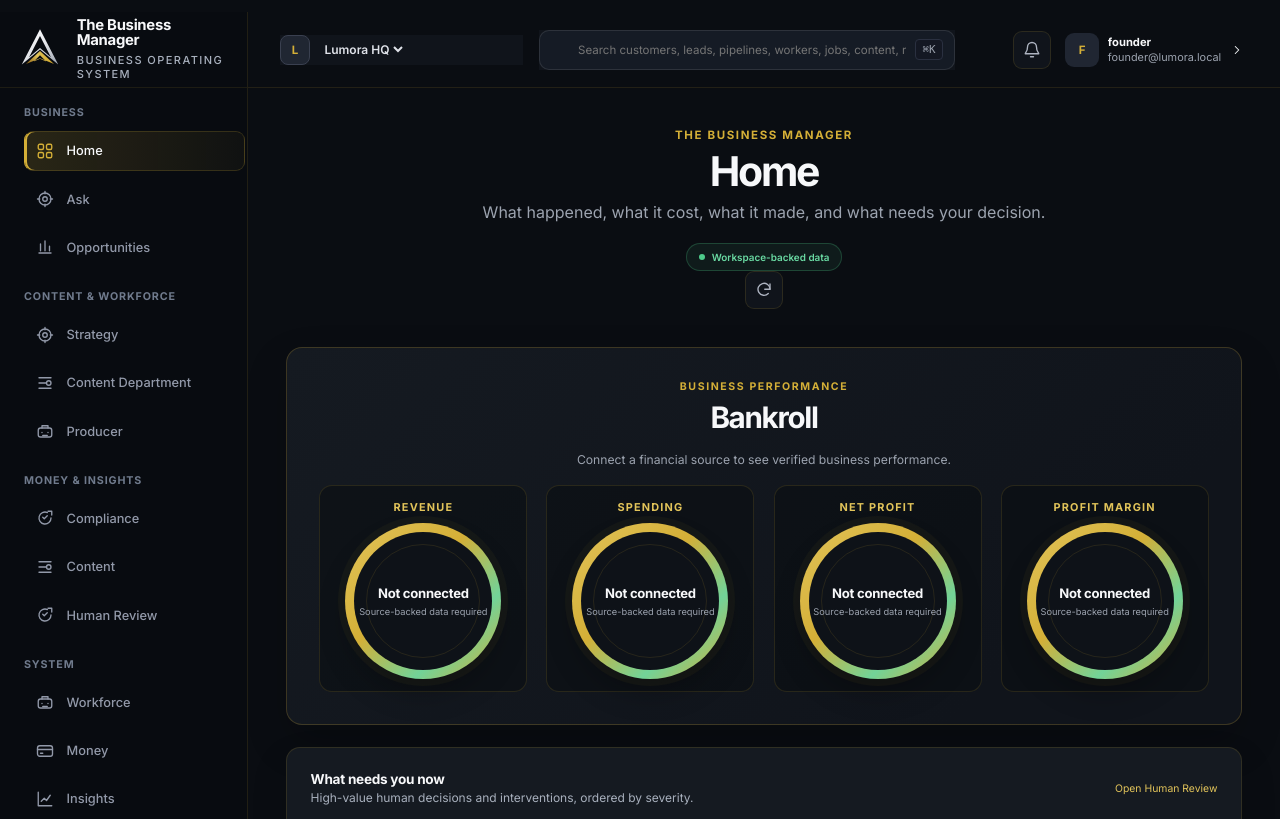
Scenario: dashboard navigation smoke test › surfaces a retryable error state instead of crashing when a route fails
This screenshot has width=1280, height=819.
Expected: the heading "Home" is shown, x1=710 y1=146 x2=818 y2=196
Click the button "Opportunities" at (135,248), box x1=24 y1=228 x2=245 y2=268
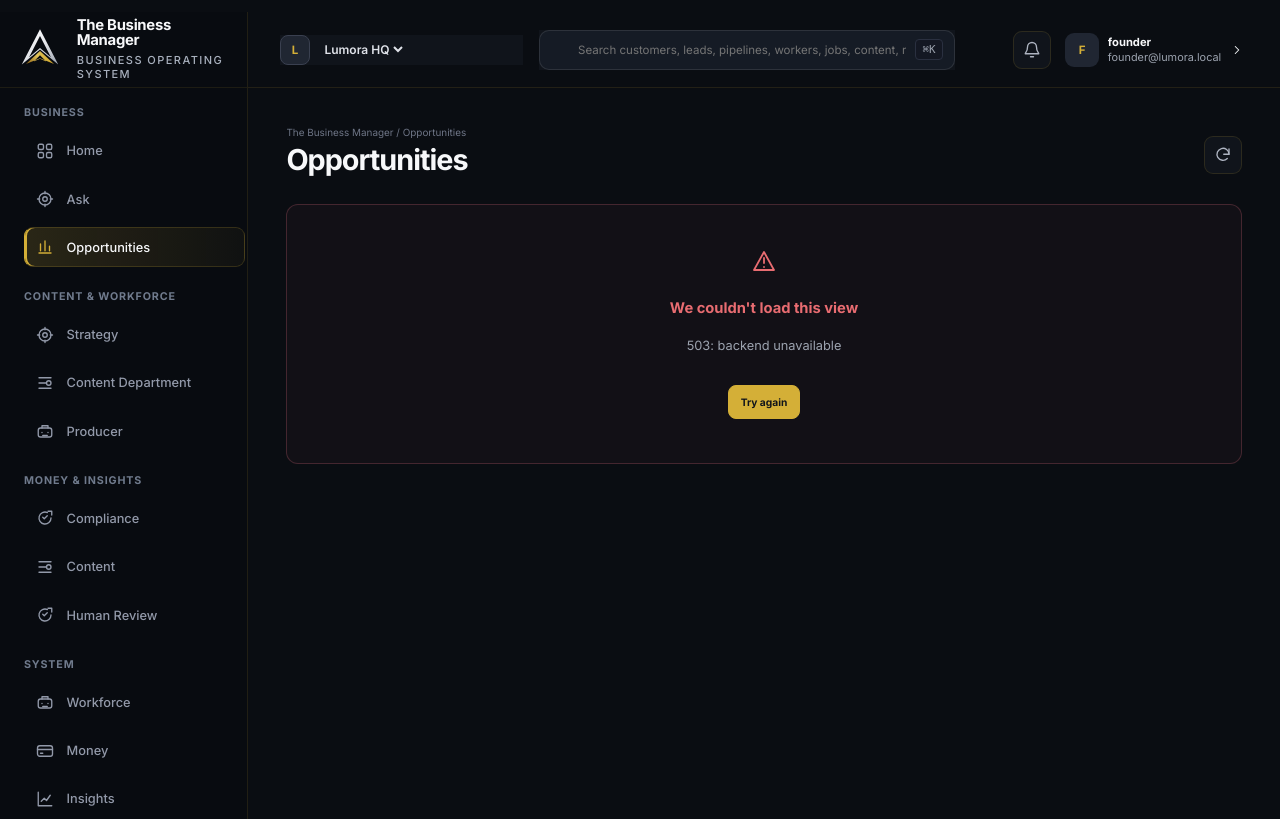
Expected: the text "The Business Manager" is shown, x1=77 y1=16 x2=171 y2=49
Now the heading "We couldn't load this view" is shown, box x1=670 y1=299 x2=858 y2=317
